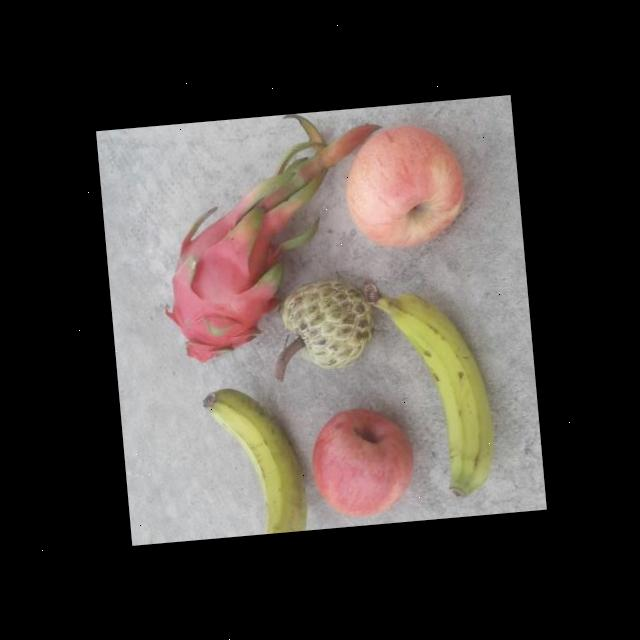Sakya fruit: (277, 274, 381, 372)
apple: (339, 114, 468, 250), (303, 403, 415, 524)
banana: (376, 290, 496, 502), (195, 382, 318, 538)
pitaya: (152, 196, 270, 360)
